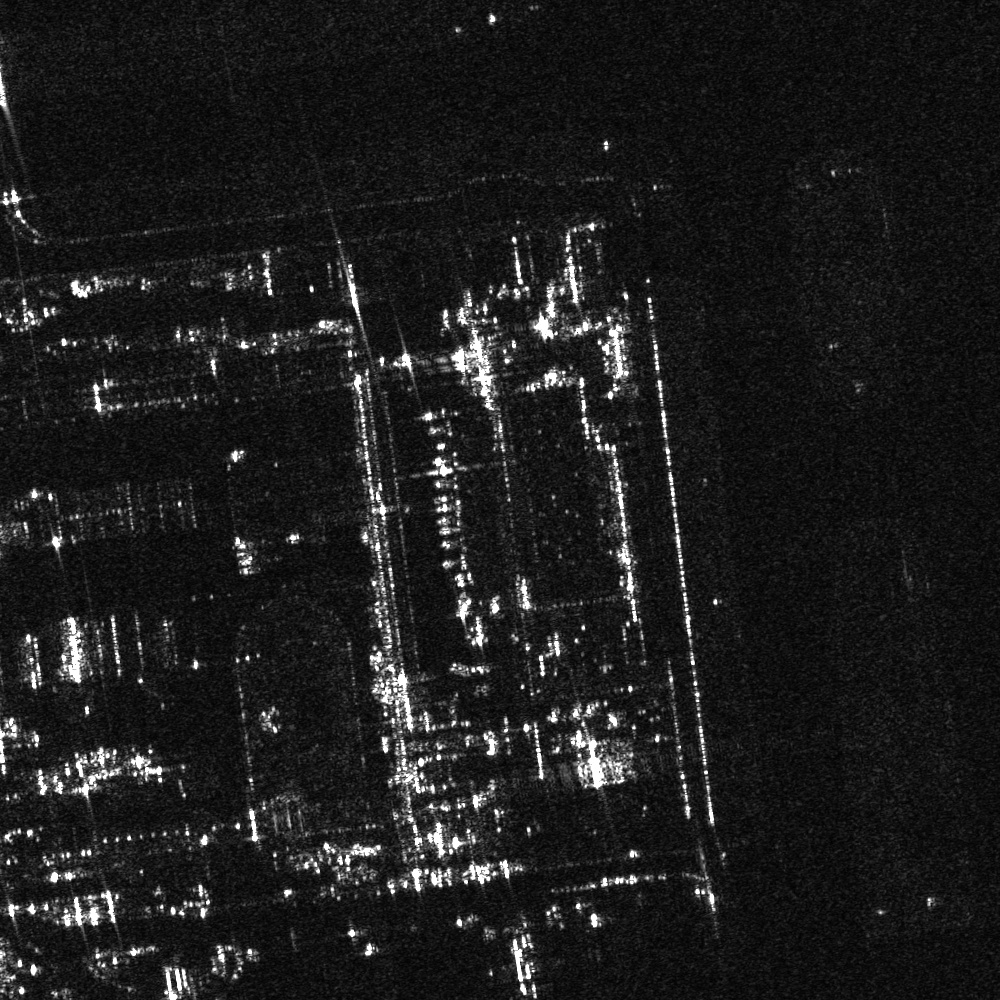Boeing737: (486, 924, 566, 999)
